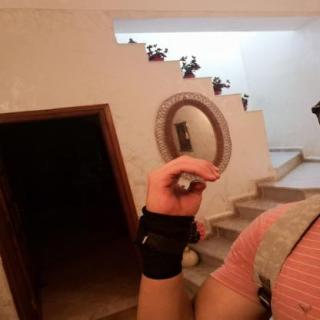JEEM: (134, 150, 231, 234)
